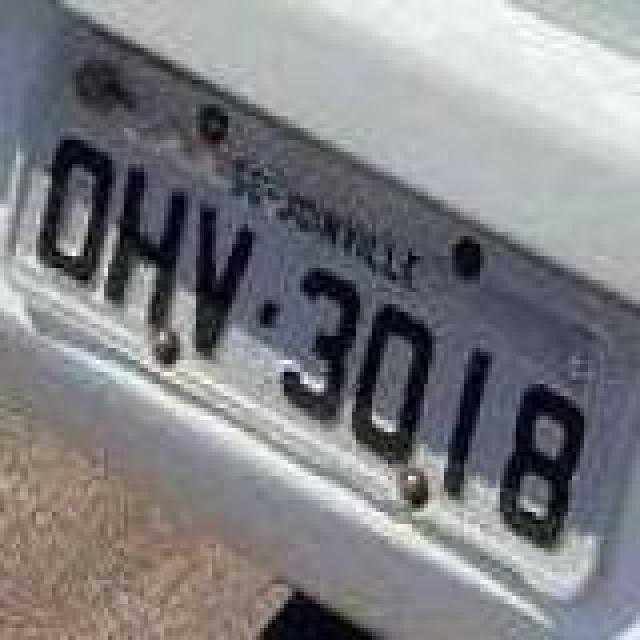1: (444, 344, 500, 504)
3: (276, 264, 364, 424)
8: (498, 378, 590, 550)
H: (104, 162, 192, 326)
O: (348, 302, 436, 466), (30, 132, 114, 284)
V: (190, 200, 258, 360)
